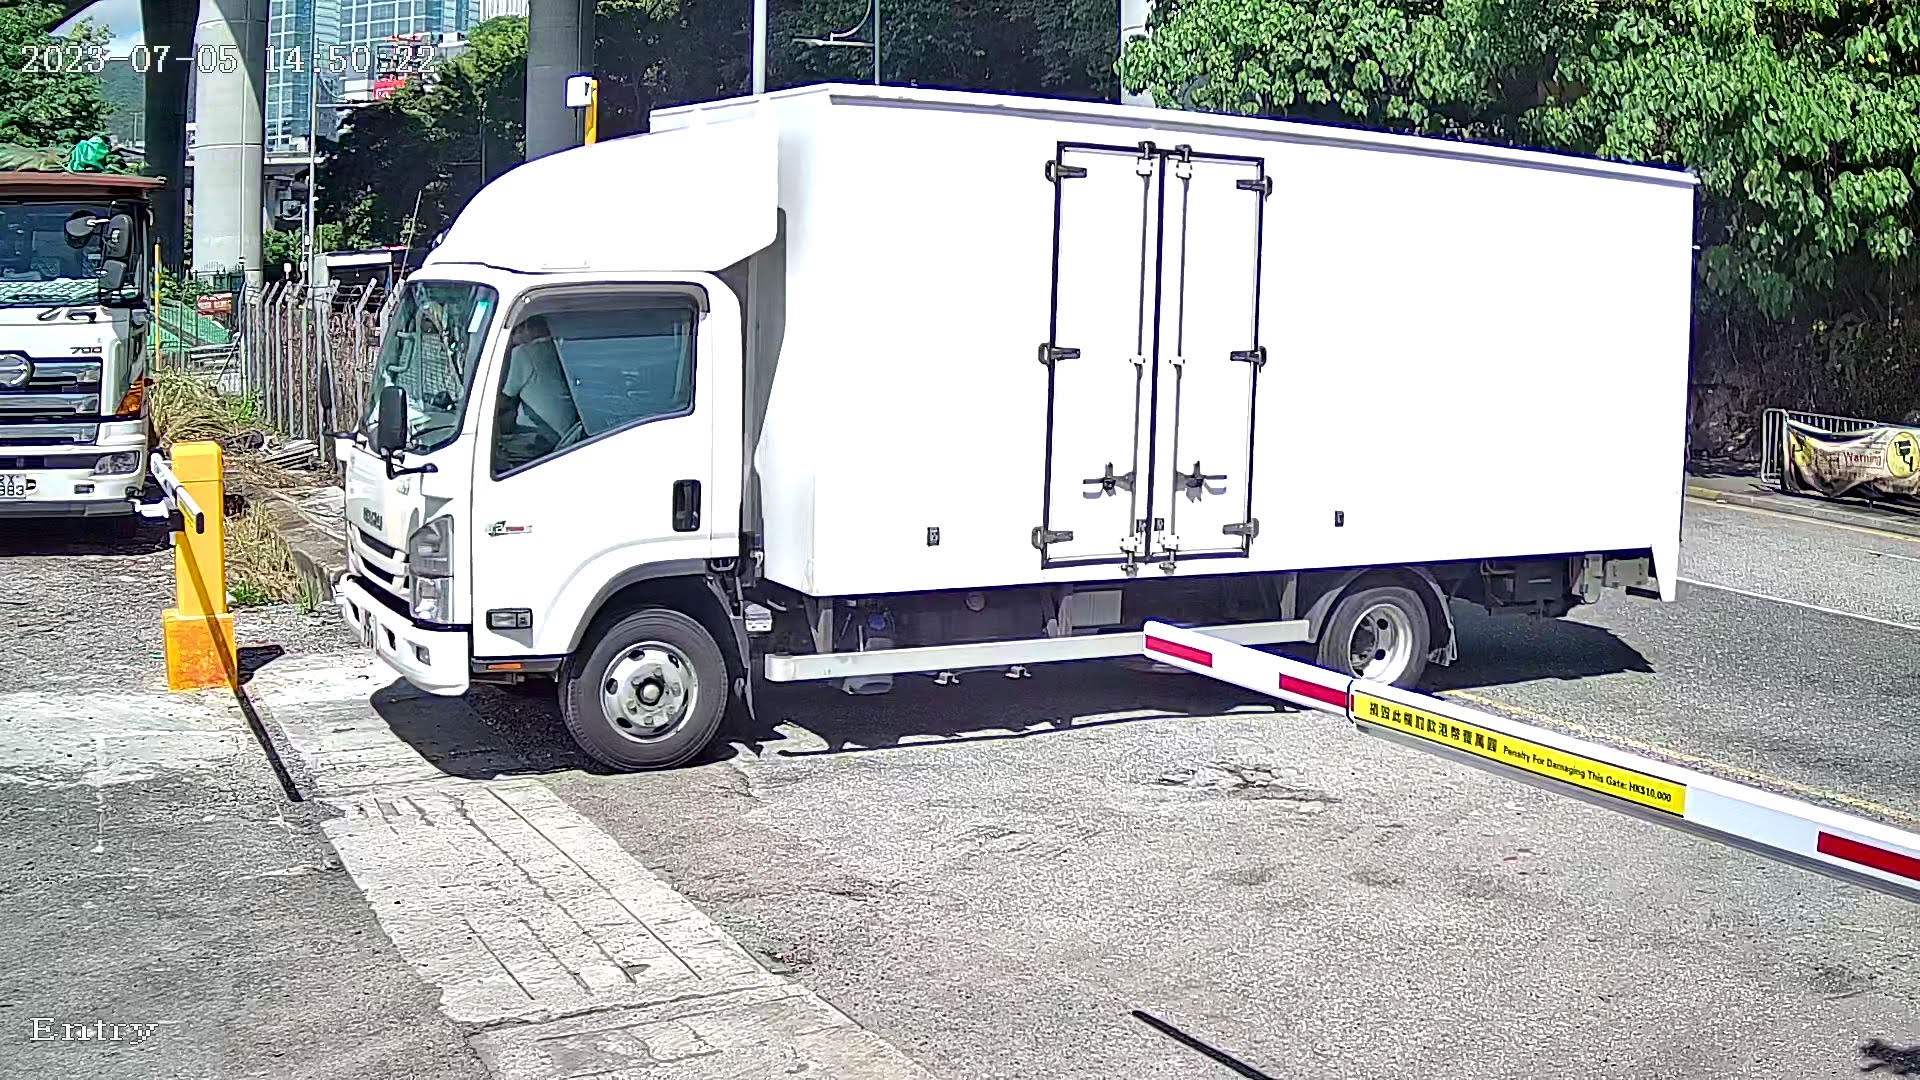truck: (307, 75, 1758, 810)
